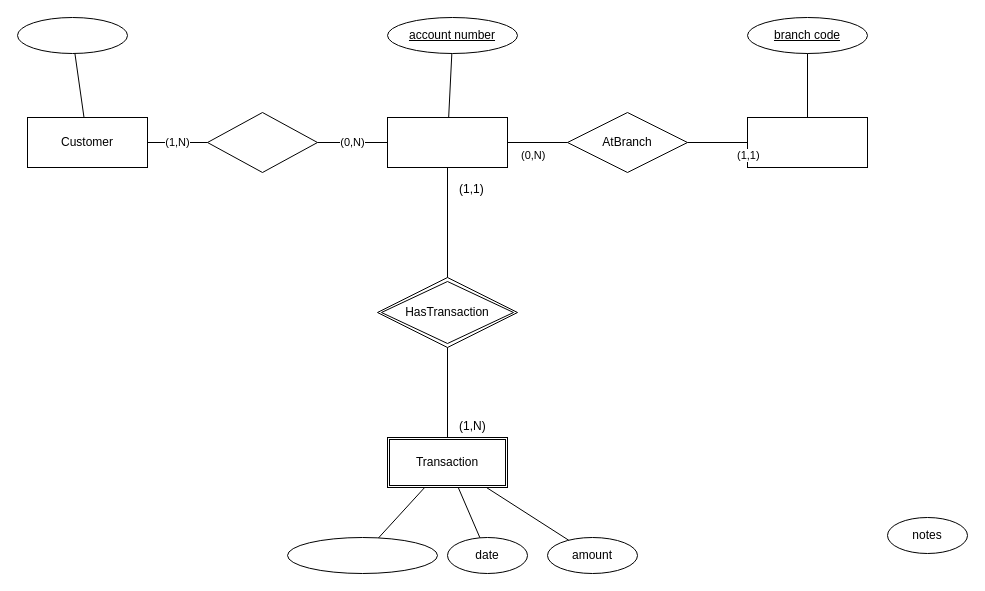
This 985x591 diagram has some shape labels left out. Here are the shapes that lost their labels. From the top down, the box of each, then its label:
(16, 16, 128, 54): customer id
(206, 112, 318, 172): Owns
(386, 116, 508, 168): Account
(746, 116, 868, 168): Branch
(286, 536, 438, 574): transaction number
